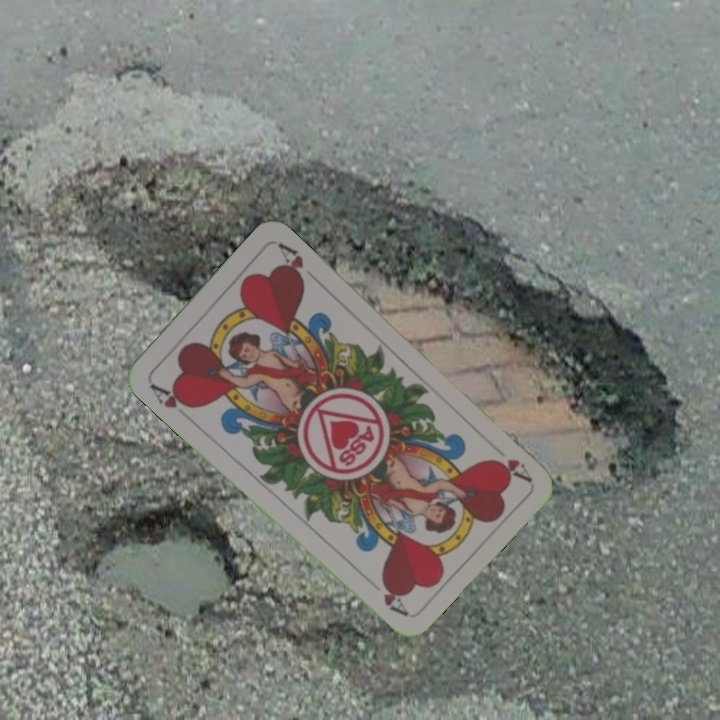HA: (145, 379, 197, 412), (487, 454, 533, 484)
